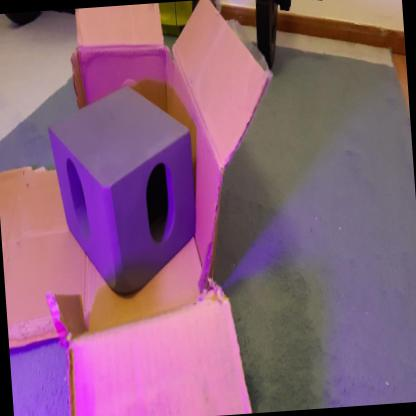CornerCasting: (41, 73, 208, 308)
